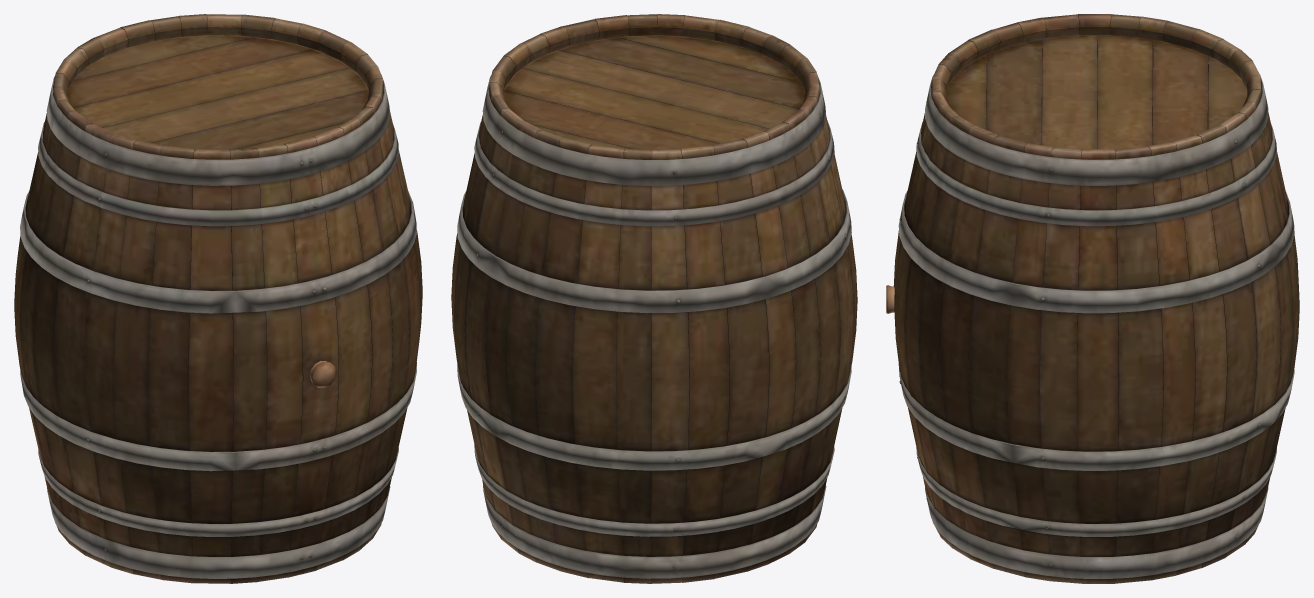
File: wine_barrel_01.glb
The picture shows the model from 3 angles, left to right: view 1: azimuth 30°, elevation 25°; view 2: azimuth 150°, elevation 25°; view 3: azimuth 270°, elevation 25°; orthographic projection.
Parts seen in each view (by area): view 1: wine_barrel_01_Lid; view 2: wine_barrel_01_Lid; view 3: wine_barrel_01_Lid.
Part boxes in pixels (left/top/right/bottom): wine_barrel_01_Lid: left=14, top=14, right=422, bottom=583; wine_barrel_01_Lid: left=451, top=14, right=857, bottom=583; wine_barrel_01_Lid: left=886, top=14, right=1299, bottom=583.
Bounding box in the file's own units: 0.742 × 0.8696 × 0.7554.
1 material, 1 textured.
